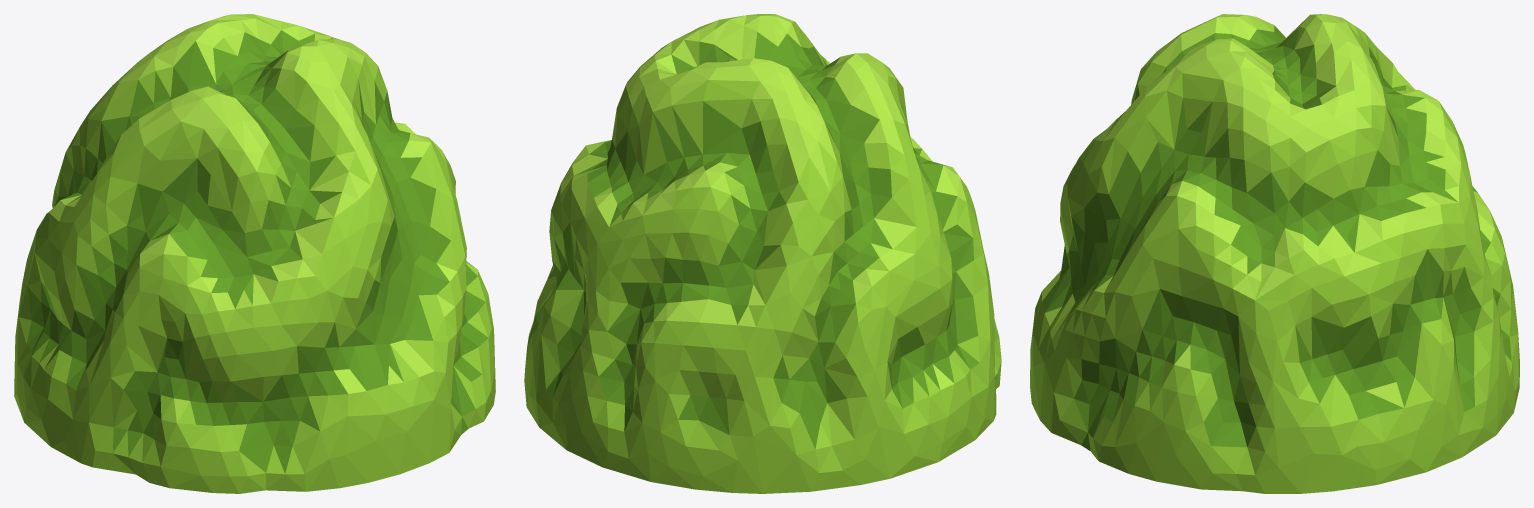
File: MB_BrainCoral_LOD.fbx
3 renders of one model, left to right at view 1: azimuth 30°, elevation 25°; view 2: azimuth 150°, elevation 25°; view 3: azimuth 270°, elevation 25°, orthographic. The views are drawn at different scales.
Visible parts, largest first — view 1: BrainCoral; view 2: BrainCoral; view 3: BrainCoral.
Part boxes in pixels (x1,y1,x2,y2): BrainCoral: (14,14,495,493); BrainCoral: (524,14,1001,493); BrainCoral: (1030,14,1519,493).
Size of the model in its own units: 1055 by 861 by 1054.
1 material, 1 textured.
